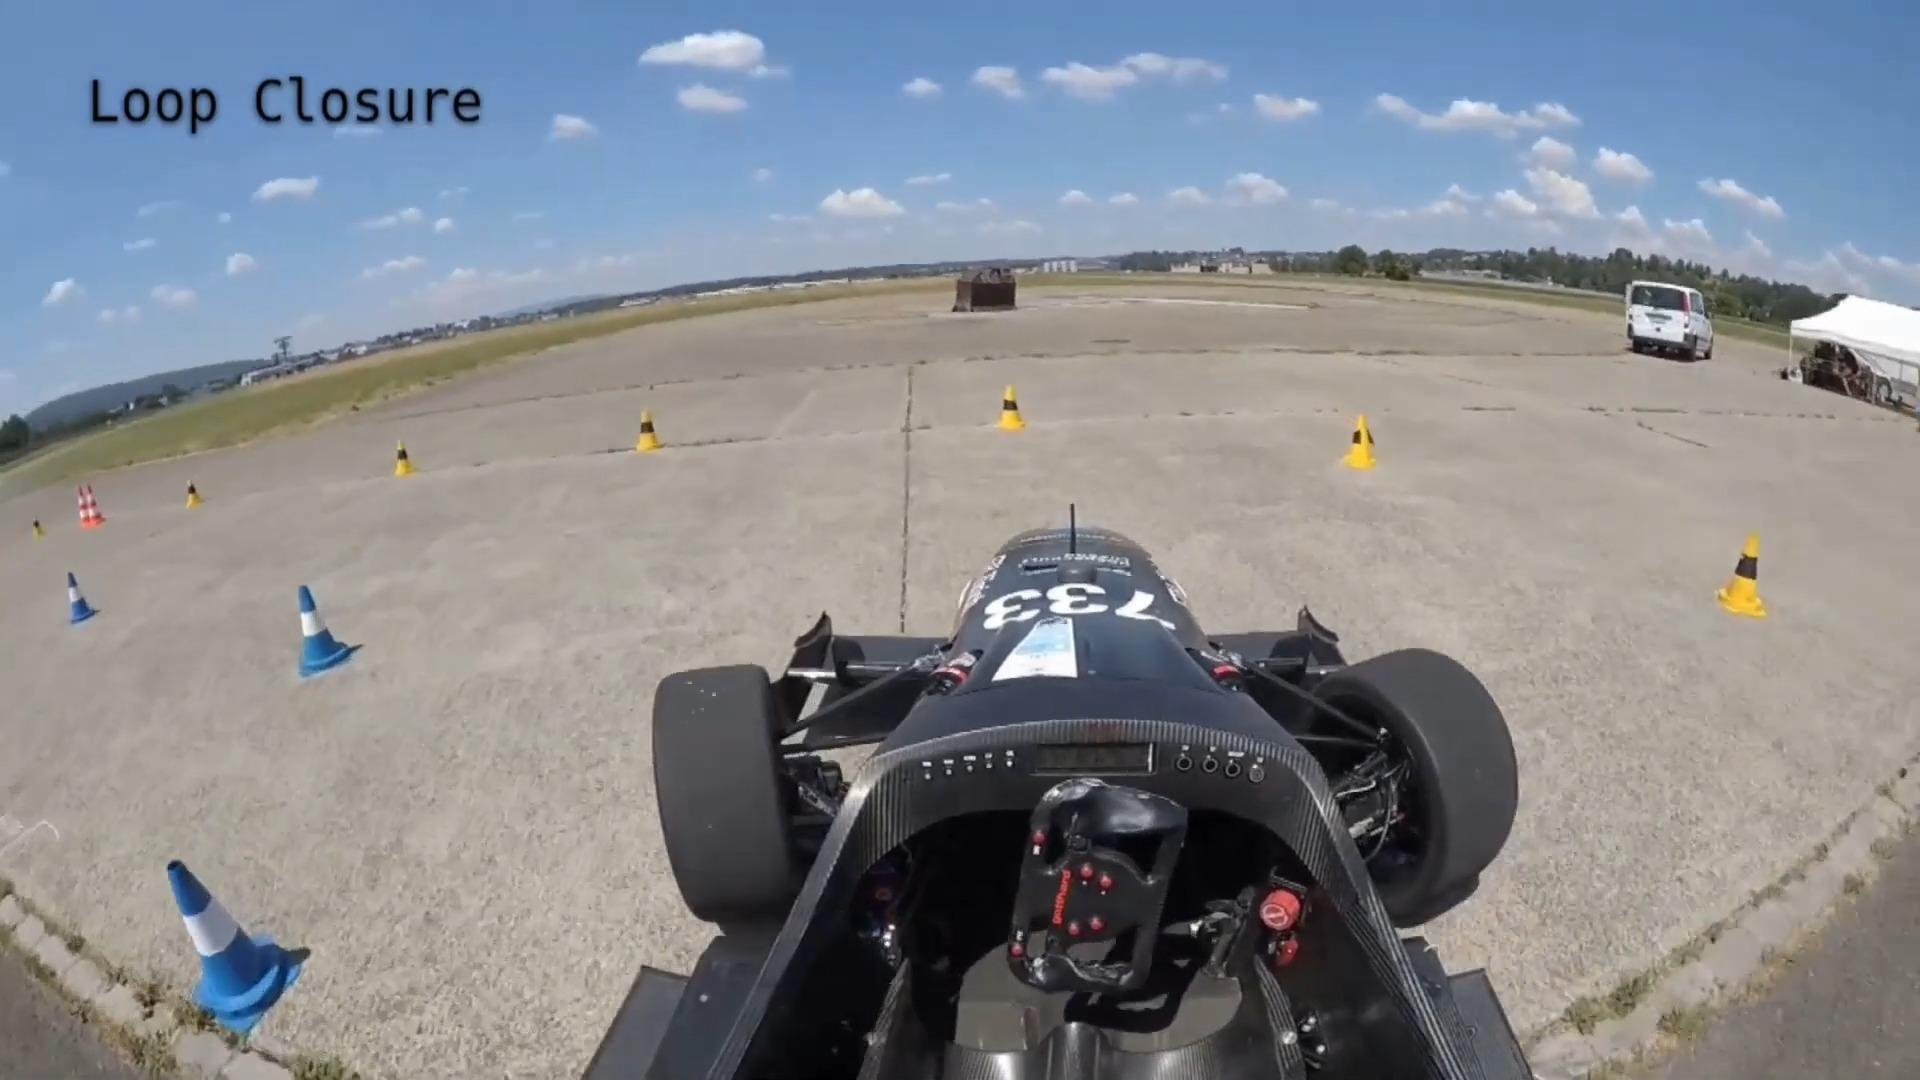blue_cone: (167, 855, 306, 1038), (297, 582, 351, 678), (67, 570, 100, 624)
large_orange_cone: (86, 485, 105, 529)
yellow_cone: (1717, 537, 1766, 615), (1344, 413, 1382, 469), (997, 384, 1027, 431), (637, 410, 663, 452), (394, 442, 414, 476)
